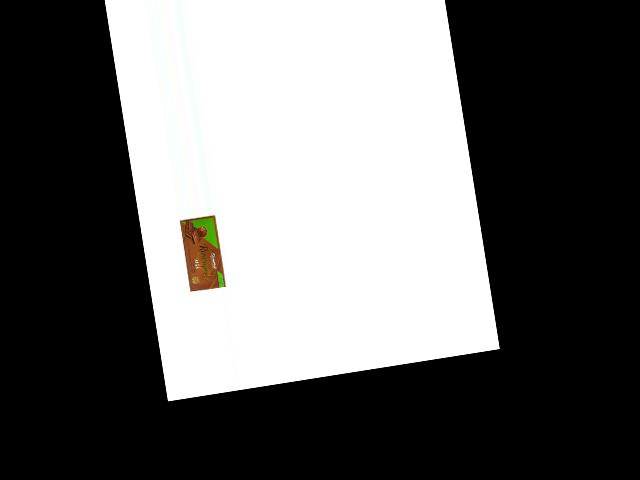chocolate: (175, 213, 228, 295)
